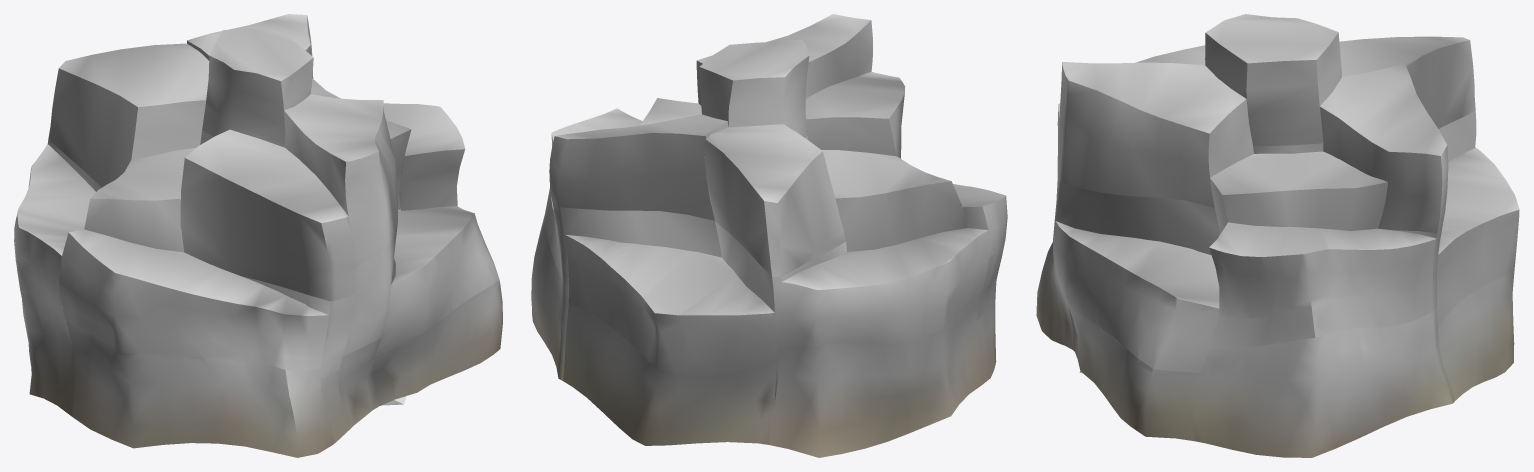
The model's file is iron_rock.glb.
The picture shows the model from 3 angles, left to right: view 1: azimuth 30°, elevation 25°; view 2: azimuth 150°, elevation 25°; view 3: azimuth 270°, elevation 25°; orthographic projection. The views are drawn at different scales.
Parts seen in each view (by area): view 1: Chunk_29, Chunk_28, Chunk_18, Chunk_12, Chunk_21, Chunk_31, Chunk_03, Chunk_30, Chunk_27, Chunk_15, Chunk_23, Chunk_26 (+6 smaller); view 2: Chunk_25, Chunk_26, Chunk_27, Chunk_24, Chunk_12, Chunk_09, Chunk_15, Chunk_03, Chunk_18, Chunk_08, Chunk_21, Chunk_22 (+5 smaller); view 3: Chunk_22, Chunk_21, Chunk_23, Chunk_31, Chunk_09, Chunk_03, Chunk_06, Chunk_25, Chunk_30, Chunk_12, Chunk_20, Chunk_24 (+7 smaller).
Part boxes in pixels (box(x1,y1,x2,y2)): Chunk_29: box(59, 229, 328, 370); Chunk_28: box(65, 319, 332, 457); Chunk_18: box(180, 129, 355, 301); Chunk_12: box(48, 43, 209, 187); Chunk_21: box(284, 94, 397, 265); Chunk_31: box(375, 206, 499, 356); Chunk_03: box(202, 28, 313, 147); Chunk_30: box(372, 280, 502, 406); Chunk_27: box(14, 144, 95, 313); Chunk_15: box(84, 147, 196, 252); Chunk_23: box(383, 103, 465, 210); Chunk_26: box(20, 292, 74, 416); Chunk_25: box(564, 234, 775, 375); Chunk_26: box(769, 291, 981, 457); Chunk_27: box(779, 228, 989, 347); Chunk_24: box(563, 305, 776, 445); Chunk_12: box(705, 124, 845, 277); Chunk_09: box(549, 114, 727, 220); Chunk_15: box(822, 150, 967, 251); Chunk_03: box(699, 39, 809, 137); Chunk_18: box(805, 71, 904, 158); Chunk_08: box(553, 204, 721, 285); Chunk_21: box(696, 14, 872, 105); Chunk_22: box(531, 214, 563, 378); Chunk_22: box(1193, 311, 1453, 457); Chunk_21: box(1057, 62, 1253, 207); Chunk_23: box(1209, 222, 1436, 347); Chunk_31: box(1053, 221, 1219, 372); Chunk_09: box(1320, 64, 1448, 233); Chunk_03: box(1205, 14, 1341, 146); Chunk_06: box(1210, 151, 1387, 233); Chunk_25: box(1437, 147, 1519, 327); Chunk_30: box(1064, 296, 1200, 441); Chunk_12: box(1339, 36, 1475, 128); Chunk_20: box(1053, 177, 1220, 266); Chunk_24: box(1438, 273, 1514, 400).
Bounding box in the file's own units: 2.64 × 1.85 × 2.44.
